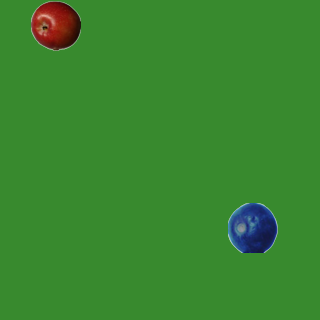Apple Braeburn: (30, 0, 80, 50)
Huckleberry: (227, 202, 277, 252)
